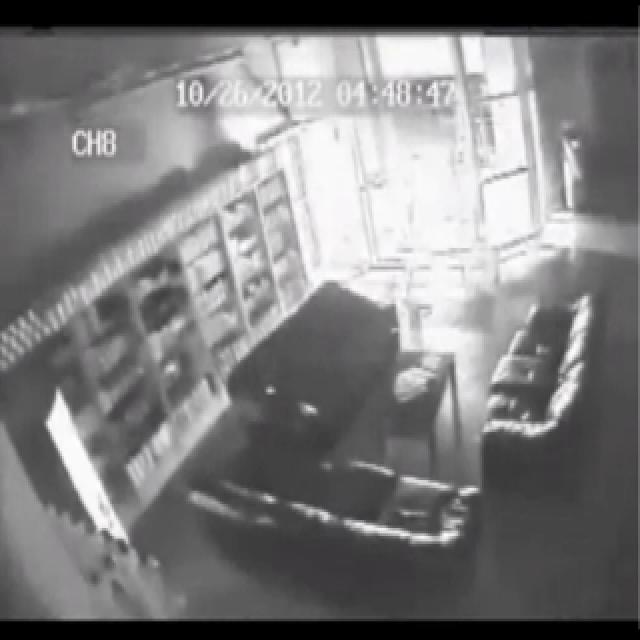arson: (33, 110, 468, 456)
